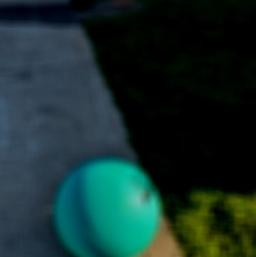algae: (58, 157, 160, 257)
